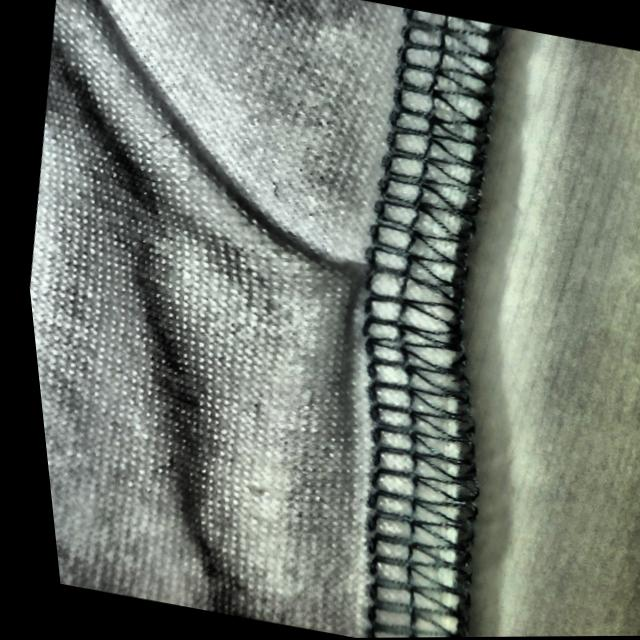seam: (211, 199, 510, 403)
